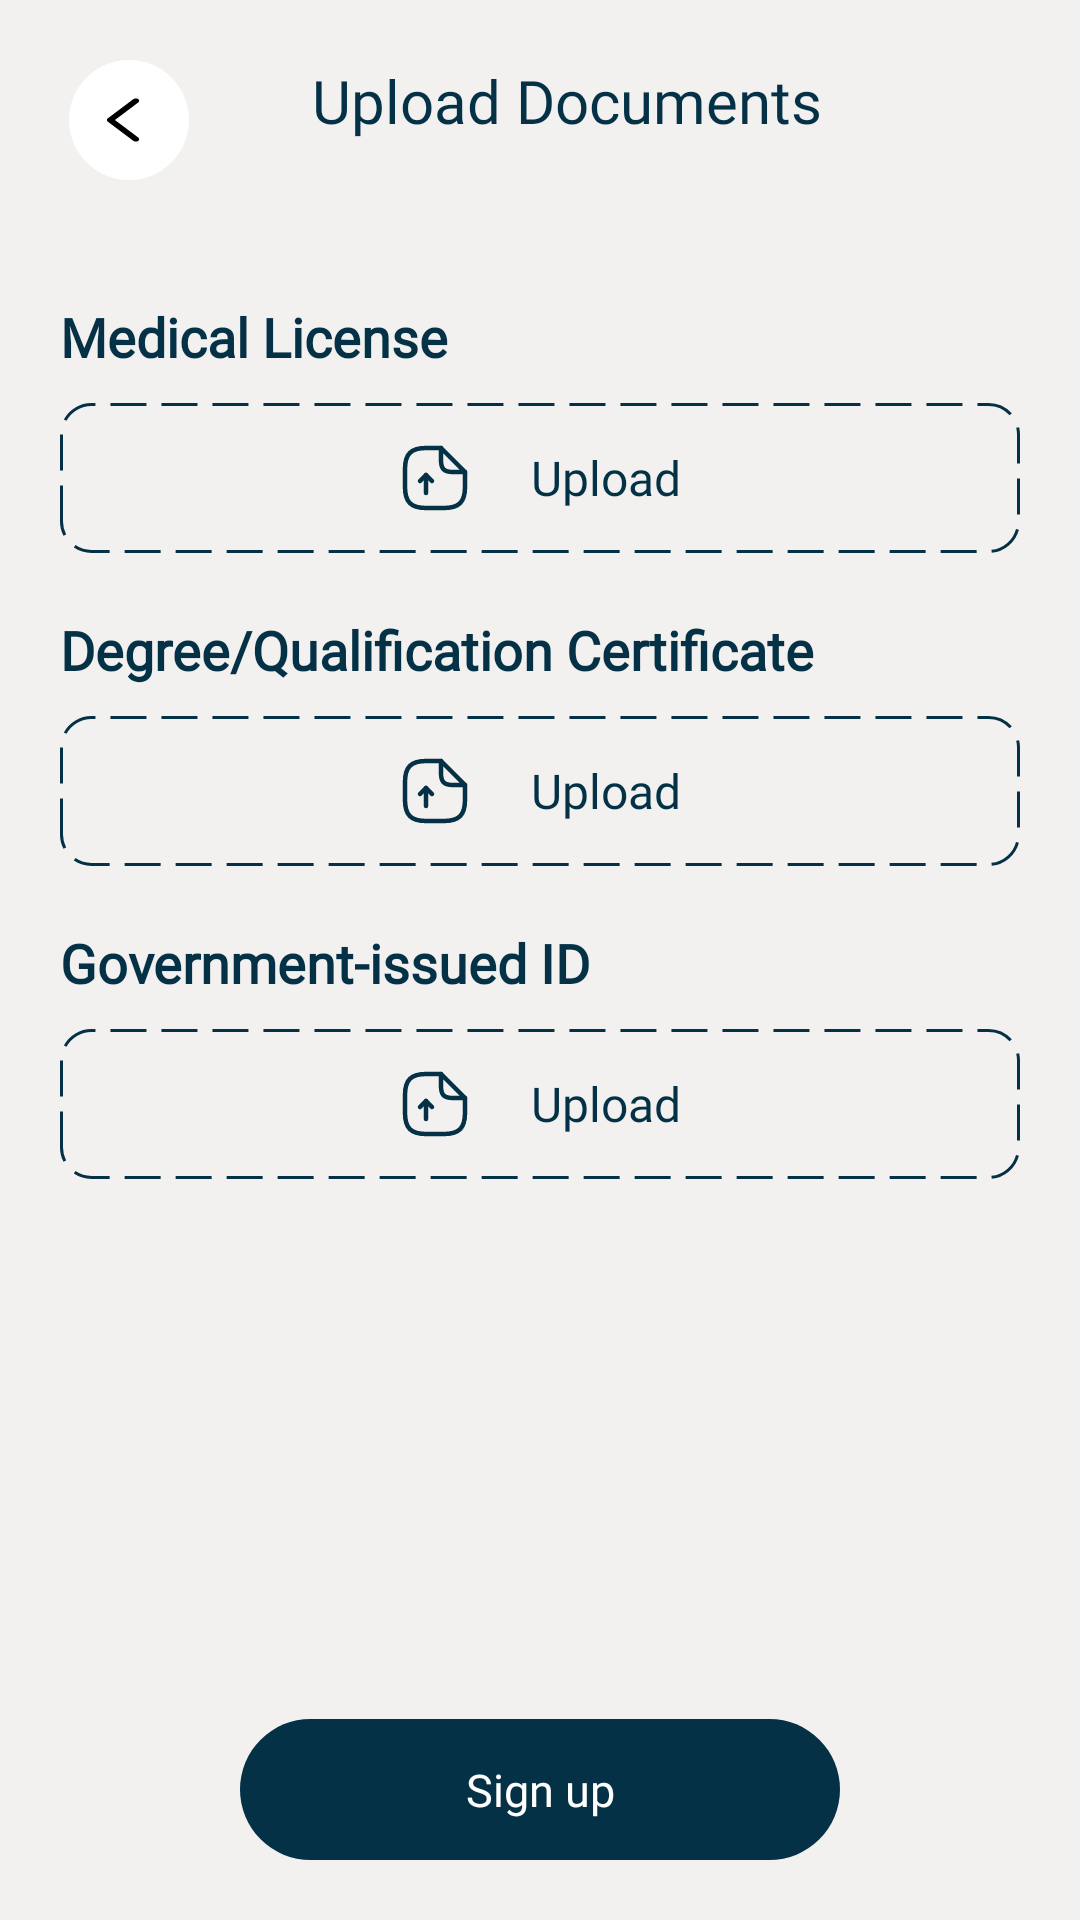

Named icons in this screenshot (1080w x 1920h) and their centers, (x,y):
back arrow: (123,120)
